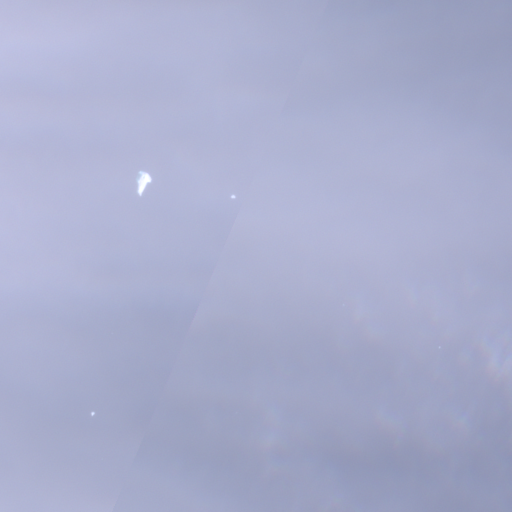Iceberg: (137, 171, 150, 195), (91, 412, 94, 415), (231, 195, 235, 197)
